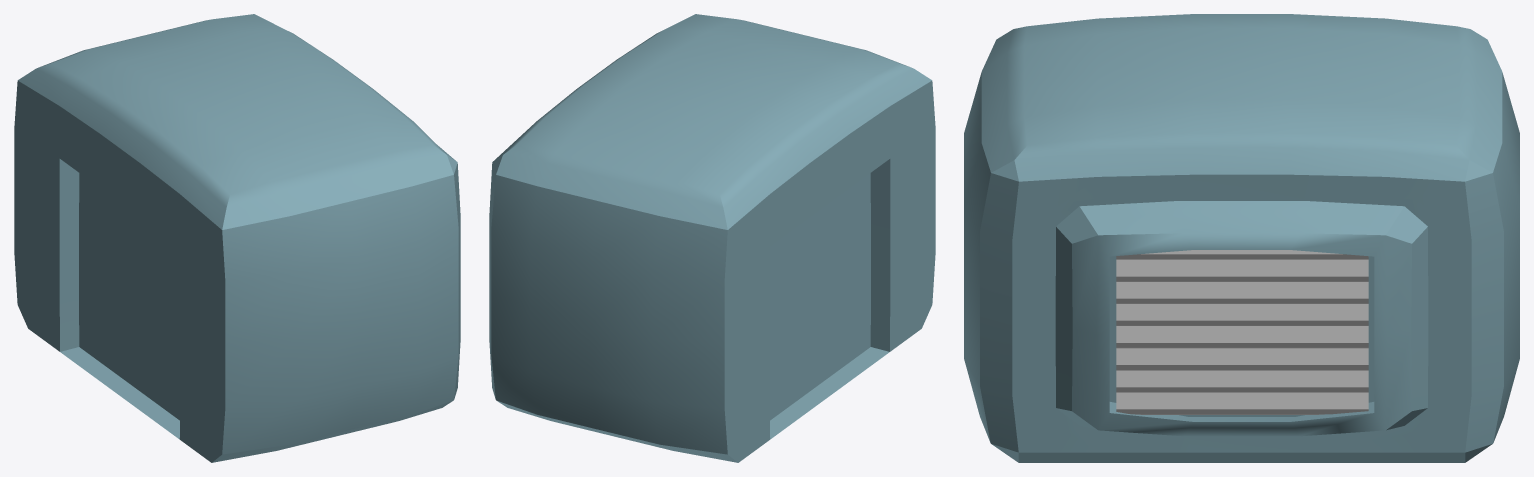
Rendered from Prop_Airco.fbx.
3 renders of one model, left to right at view 1: azimuth 30°, elevation 25°; view 2: azimuth 150°, elevation 25°; view 3: azimuth 270°, elevation 25°, orthographic. The views are drawn at different scales.
Parts seen in each view (by area): view 1: pCube22; view 2: pCube22; view 3: pCube22, pCube14, pCube15, pCube18, pCube19, pCube16, pCube20, pCube21, pCube17.
Boxes of the visible parts, bbox=[...] form: pCube22: bbox=[14, 14, 460, 462]; pCube22: bbox=[489, 14, 935, 462]; pCube22: bbox=[964, 14, 1519, 462]; pCube14: bbox=[1116, 326, 1368, 348]; pCube15: bbox=[1116, 370, 1368, 392]; pCube18: bbox=[1116, 348, 1368, 370]; pCube19: bbox=[1116, 259, 1368, 281]; pCube16: bbox=[1116, 392, 1368, 414]; pCube20: bbox=[1116, 282, 1368, 303]; pCube21: bbox=[1116, 304, 1368, 325]; pCube17: bbox=[1116, 250, 1368, 259].
Bounding box in the file's own units: 0.3438 × 0.3338 × 0.5001.
